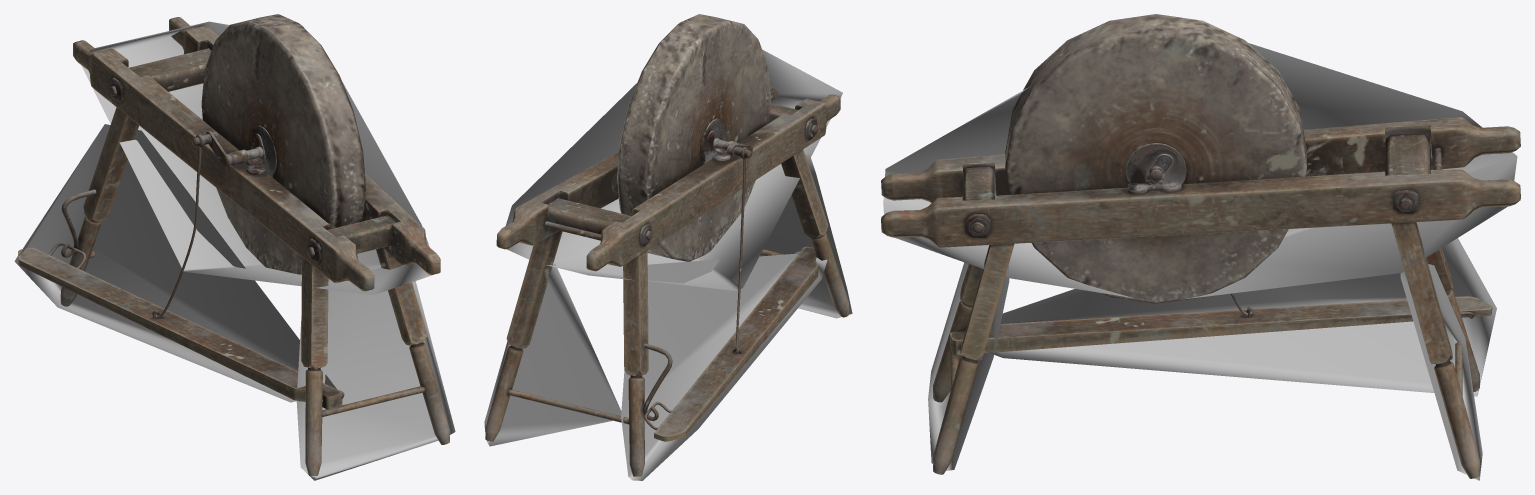
File: SM_GrindStone.gltf
3 views of the same model, side by side, from view 1: azimuth 30°, elevation 25°; view 2: azimuth 150°, elevation 25°; view 3: azimuth 270°, elevation 25° (orthographic). The views are drawn at different scales.
Visible parts, largest first — view 1: SM_GrindStone_LOD0, SM_GrindStone_ConvexHulls; view 2: SM_GrindStone_LOD0, SM_GrindStone_ConvexHulls; view 3: SM_GrindStone_LOD0, SM_GrindStone_ConvexHulls.
Boxes of the visible parts, x1,y1,x2,y2 form: SM_GrindStone_LOD0: (18, 14, 449, 475); SM_GrindStone_ConvexHulls: (14, 21, 455, 480); SM_GrindStone_LOD0: (485, 14, 849, 476); SM_GrindStone_ConvexHulls: (484, 49, 852, 480); SM_GrindStone_LOD0: (881, 14, 1520, 478); SM_GrindStone_ConvexHulls: (883, 43, 1517, 480).
Size of what is drawn, in the model's own units: 0.6015 by 0.9775 by 1.35.
